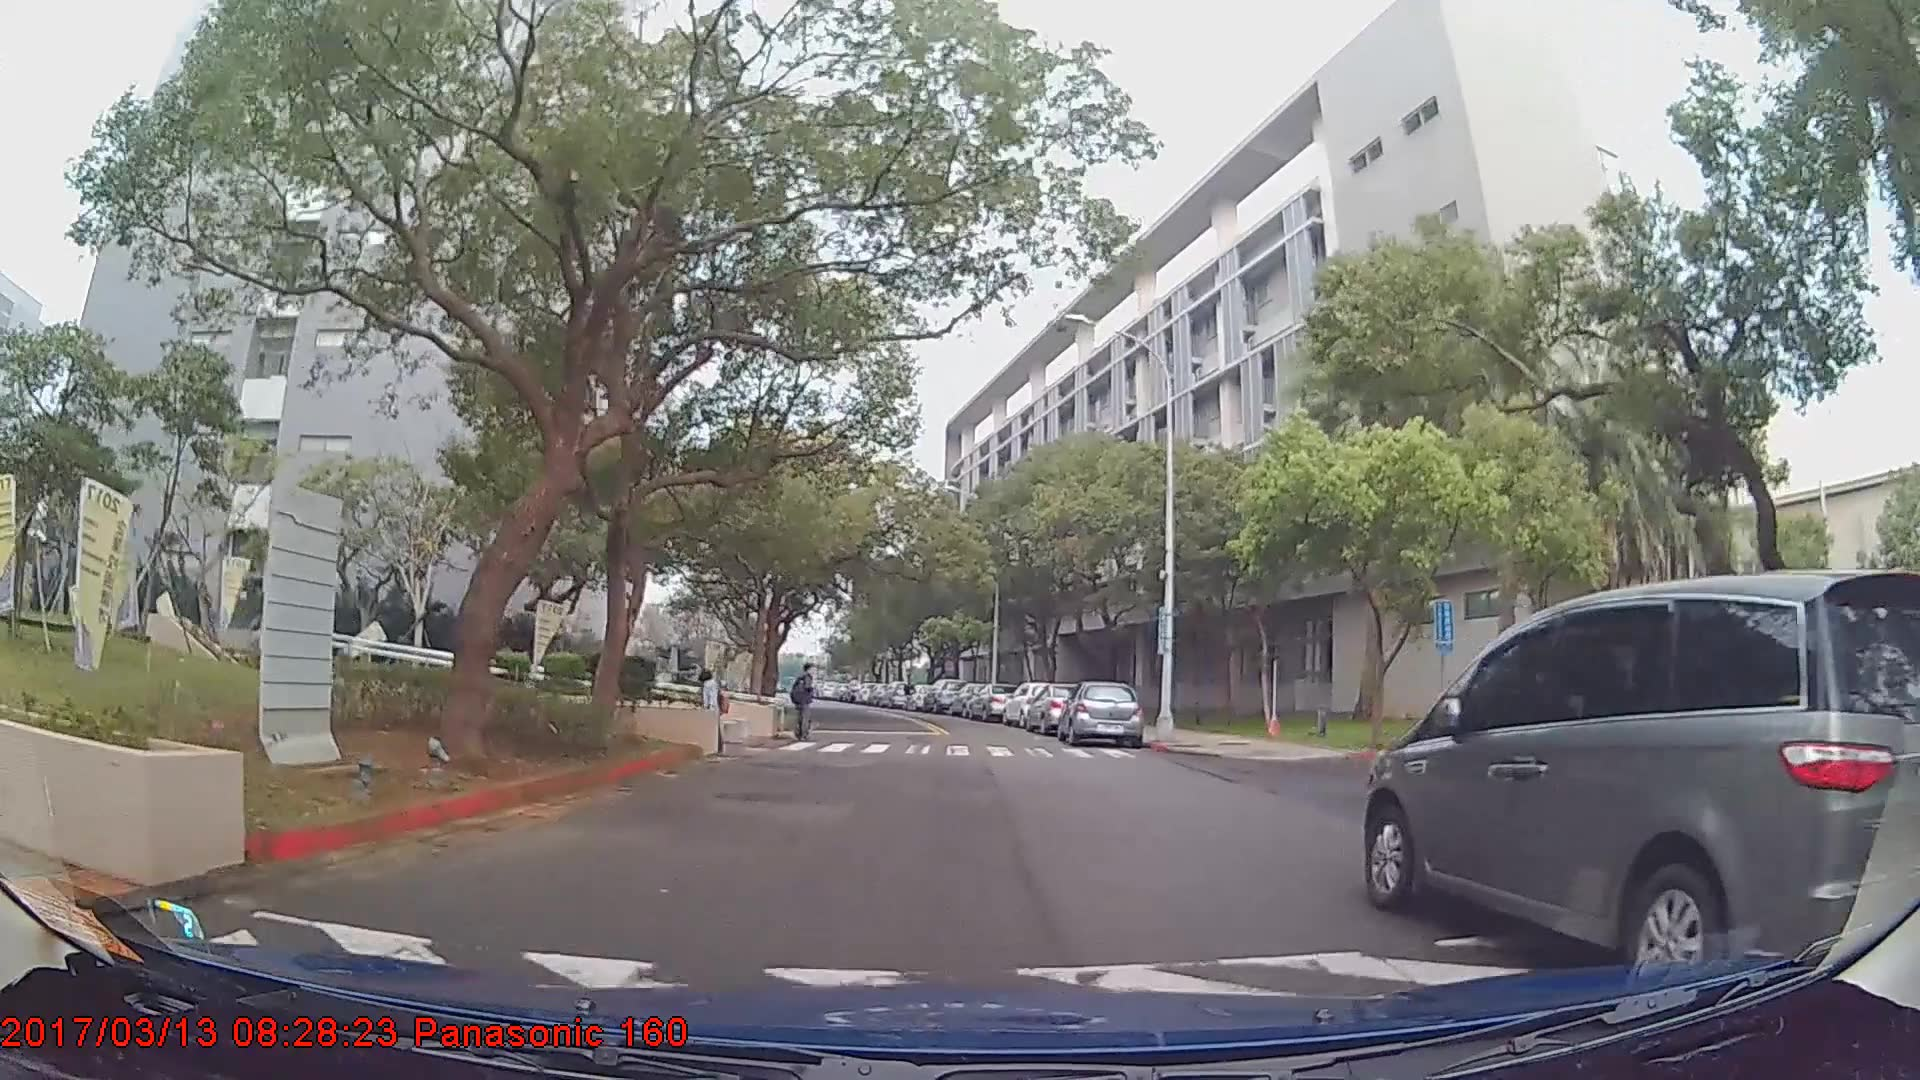pedestrian: (695, 671, 731, 753), (791, 661, 820, 746)
vehicle: (1362, 569, 1920, 988), (1060, 679, 1141, 747), (1020, 679, 1097, 732), (998, 677, 1063, 729), (966, 682, 1014, 719), (922, 677, 965, 713)
